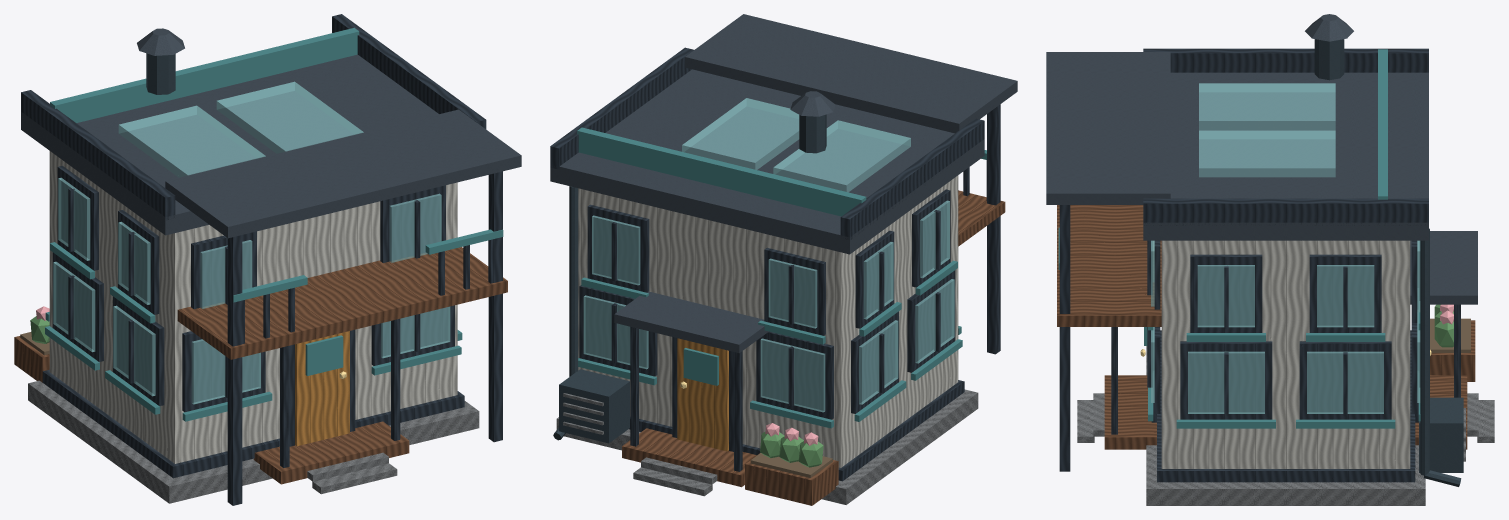
The model's file is house_modern_lv2_balcony.glb.
The picture shows the model from 3 angles, left to right: view 1: azimuth 30°, elevation 25°; view 2: azimuth 150°, elevation 25°; view 3: azimuth 270°, elevation 25°; orthographic projection. The views are drawn at different scales.
Visible parts, largest first — view 1: walls, flat_roof, balcony_roof, balcony_floor, foundation, roof_terrace, solar_panel, solar_panel.001, floor_trim, parapet, front_door, front_deck (+34 smaller); view 2: flat_roof, walls, balcony_roof, roof_terrace, solar_panel, solar_panel.001, back_porch_canopy, back_window_frame, foundation, back_window_frame.003, back_door, back_window_frame.002 (+38 smaller); view 3: flat_roof, walls, balcony_roof, balcony_floor, foundation, parapet.001, right_window_frame, right_window_frame.001, solar_panel.001, solar_panel, parapet, right_window_frame.002 (+30 smaller).
Part boxes in pixels (x1,y1,x2,y2): walls: (49, 151, 457, 463); flat_roof: (21, 54, 438, 235); balcony_roof: (165, 109, 521, 238); balcony_floor: (177, 247, 507, 359); foundation: (28, 380, 479, 503); roof_terrace: (50, 27, 359, 122); solar_panel: (118, 105, 265, 177); solar_panel.001: (216, 81, 363, 153); floor_trim: (42, 369, 464, 478); parapet: (21, 90, 175, 220); front_door: (295, 331, 349, 446); front_deck: (253, 421, 409, 484); flat_roof: (550, 69, 984, 254); walls: (578, 175, 958, 467); balcony_roof: (685, 14, 1017, 133); roof_terrace: (577, 127, 866, 216); solar_panel: (773, 120, 910, 192); solar_panel.001: (682, 98, 799, 169); back_porch_canopy: (614, 291, 768, 353); back_window_frame: (756, 331, 833, 419); foundation: (556, 389, 978, 504); back_window_frame.003: (587, 204, 649, 292); back_door: (677, 338, 728, 451); back_window_frame.002: (764, 247, 825, 335); flat_roof: (1143, 72, 1428, 240); walls: (1161, 240, 1410, 468); balcony_roof: (1046, 52, 1170, 204); balcony_floor: (1057, 205, 1161, 326); foundation: (1146, 346, 1425, 505); parapet.001: (1143, 198, 1428, 225); right_window_frame: (1180, 341, 1272, 419); right_window_frame.001: (1299, 341, 1391, 419); solar_panel.001: (1199, 130, 1335, 177); solar_panel: (1199, 83, 1335, 129); parapet: (1143, 48, 1428, 72); right_window_frame.002: (1190, 254, 1262, 332).
Bounding box in the file's own units: 2.95 × 3.37 × 3.61.
13 materials, 7 textured.
